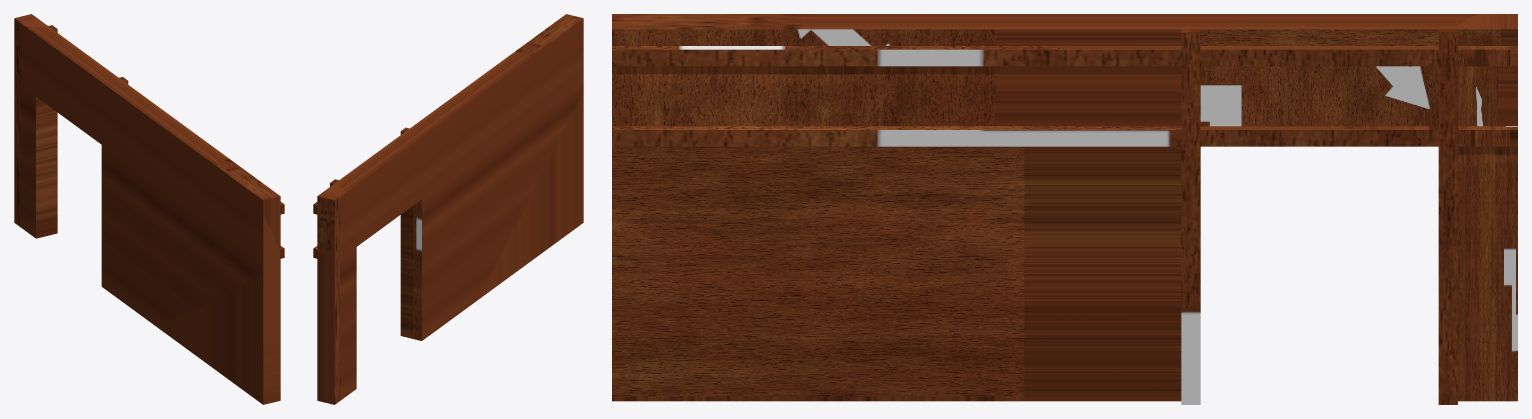
File: kaidan_wall.fbx
3 renders of one model, left to right at view 1: azimuth 30°, elevation 25°; view 2: azimuth 150°, elevation 25°; view 3: azimuth 270°, elevation 25°, orthographic. The views are drawn at different scales.
Parts seen in each view (by area): view 1: 立方体.032; view 2: 立方体.032; view 3: 立方体.032.
Part boxes in pixels (<box>): 立方体.032: <box>14,14,284,404</box>; 立方体.032: <box>313,14,583,404</box>; 立方体.032: <box>612,14,1517,404</box>.
Bounding box in the file's own units: 44.36 × 406 × 895.
